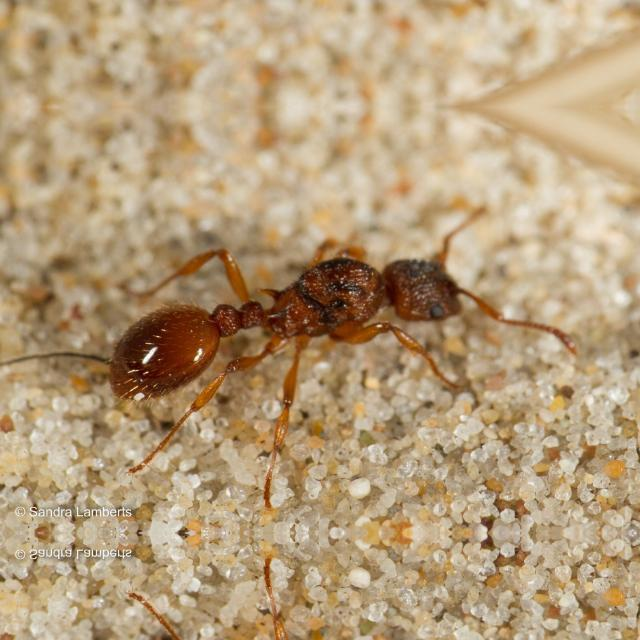Myrmica: (101, 187, 549, 433)
